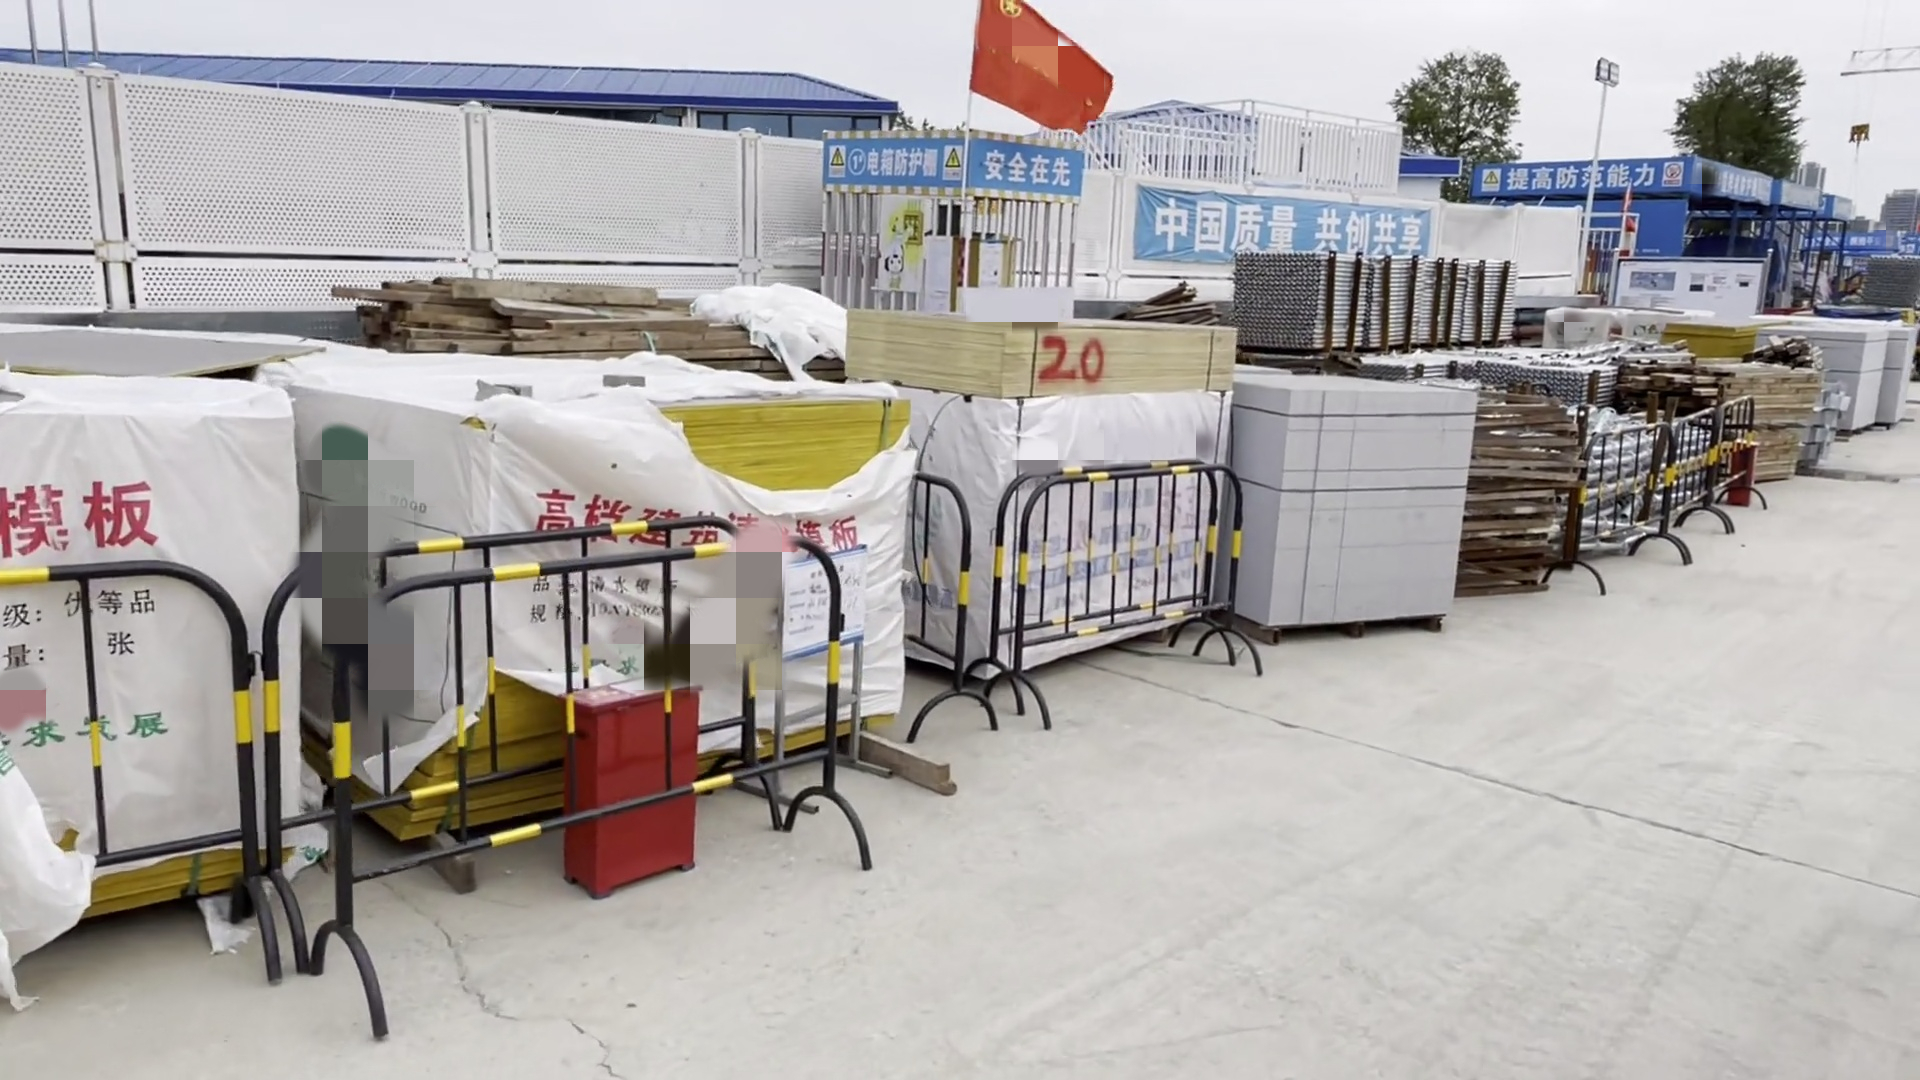brick: (1212, 371, 1491, 634), (1775, 318, 1894, 431)
fence: (281, 512, 874, 1034), (1, 538, 270, 1005), (978, 456, 1257, 748), (890, 465, 998, 765), (1557, 423, 1677, 600), (1675, 405, 1720, 559), (1722, 378, 1760, 539)
slogan: (1155, 183, 1425, 266), (1481, 156, 1683, 198), (808, 138, 953, 190), (959, 138, 1081, 190)
